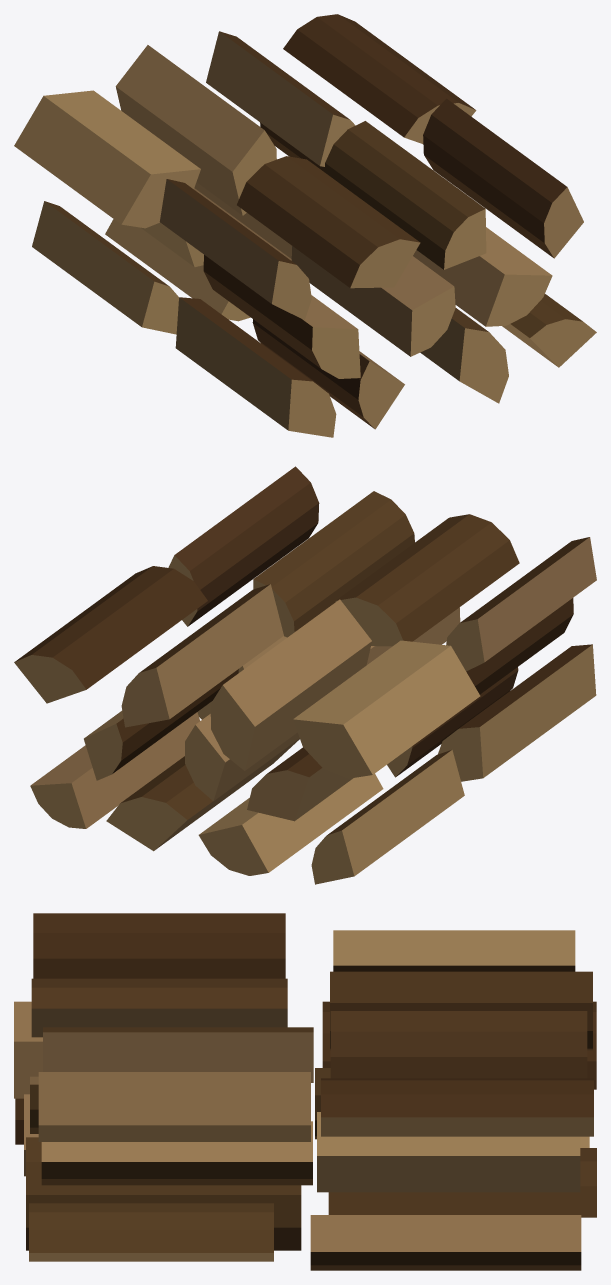
Rendered from smokehouse_ceppi.glb.
3 renders of one model, top to bottom at view 1: azimuth 30°, elevation 25°; view 2: azimuth 150°, elevation 25°; view 3: azimuth 270°, elevation 25°, orthographic. The views are drawn at different scales.
Visible parts, largest first — view 1: smokehouse_ceppi; view 2: smokehouse_ceppi; view 3: smokehouse_ceppi.
Boxes of the visible parts, x1=… form: smokehouse_ceppi: x1=14, y1=14, x2=596, y2=437; smokehouse_ceppi: x1=14, y1=466, x2=596, y2=884; smokehouse_ceppi: x1=14, y1=913, x2=596, y2=1270.
Size of the model in its own units: 1.55 by 0.843 by 1.99.
